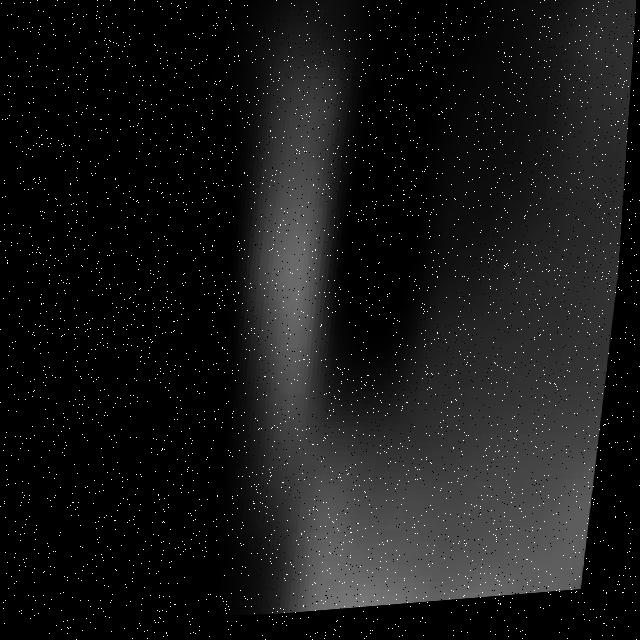person: (196, 1, 640, 626)
